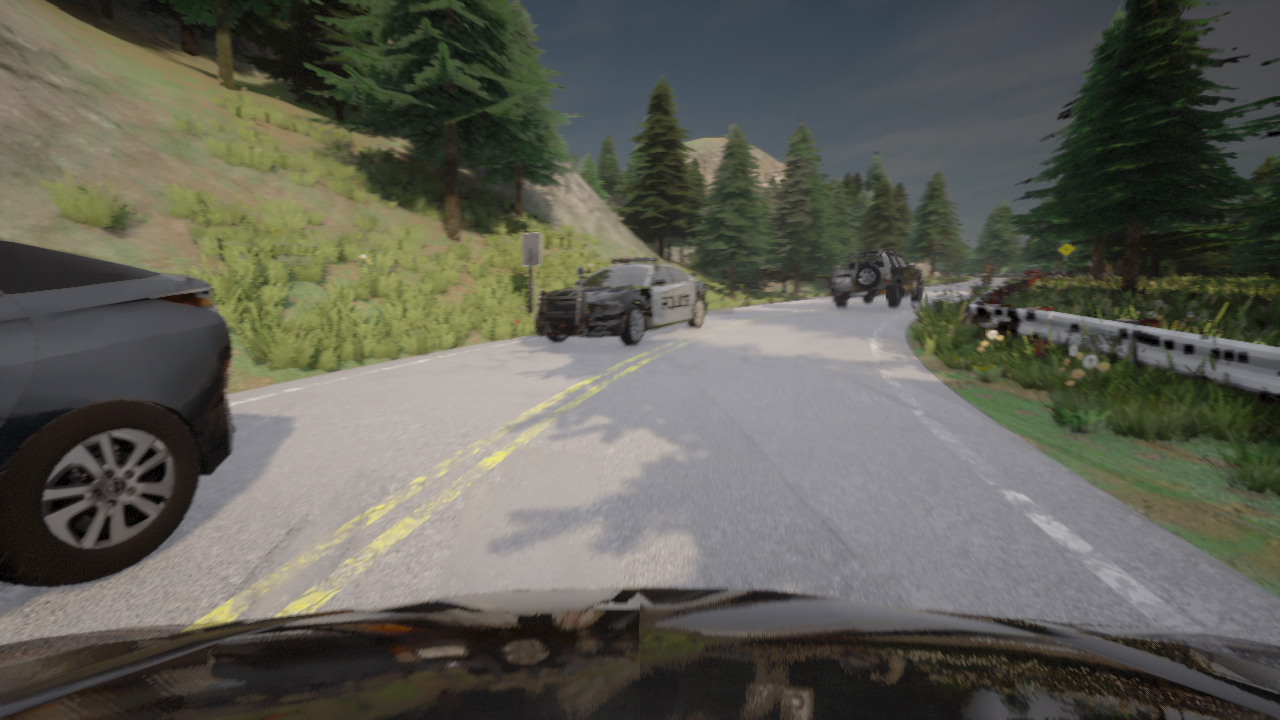cyclist: (0, 588, 1279, 719), (536, 255, 707, 344), (830, 250, 924, 307), (1024, 265, 1041, 278), (981, 269, 994, 285)
